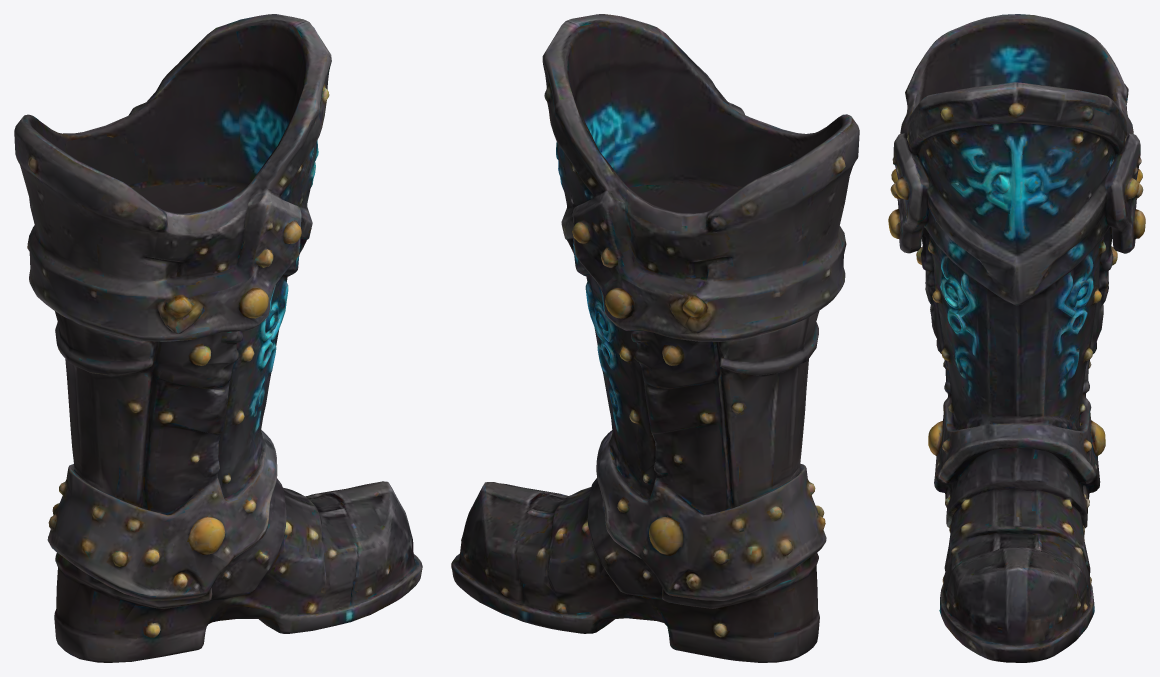
The model's file is artifice-greva.glb.
3 views of the same model, side by side, from view 1: azimuth 30°, elevation 25°; view 2: azimuth 150°, elevation 25°; view 3: azimuth 270°, elevation 25° (orthographic). The views are drawn at different scales.
Visible parts, largest first — view 1: tripo_node_015c2ac6-fc35-4b0e-8b76-435aa0566f86; view 2: tripo_node_015c2ac6-fc35-4b0e-8b76-435aa0566f86; view 3: tripo_node_015c2ac6-fc35-4b0e-8b76-435aa0566f86.
Boxes of the visible parts, box(x1,y1,x2,y2) form: tripo_node_015c2ac6-fc35-4b0e-8b76-435aa0566f86: box(14, 14, 422, 662); tripo_node_015c2ac6-fc35-4b0e-8b76-435aa0566f86: box(451, 14, 859, 662); tripo_node_015c2ac6-fc35-4b0e-8b76-435aa0566f86: box(888, 14, 1145, 662).
Size of the model in its own units: 0.6828 by 0.9766 by 0.4286.
Materials: 1 (1 with a texture image).
